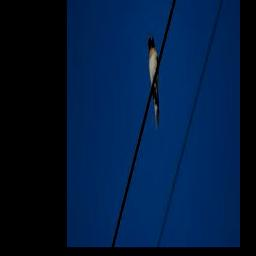Swallow: (148, 35, 160, 129)
